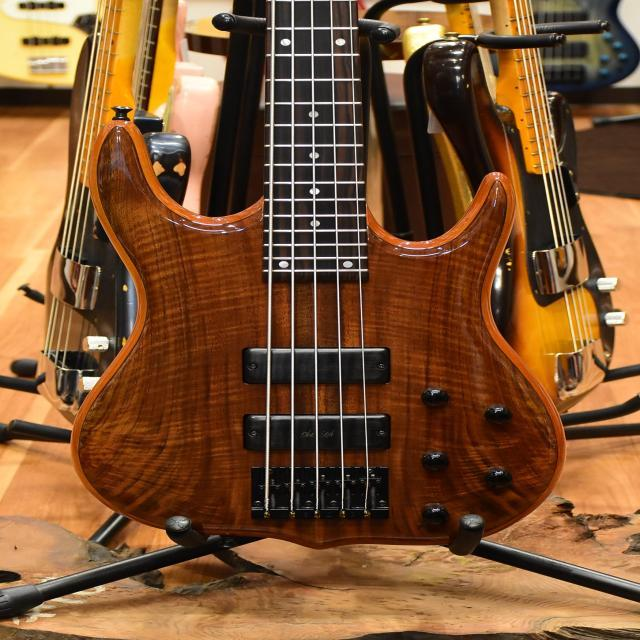bass: (72, 0, 563, 546)
